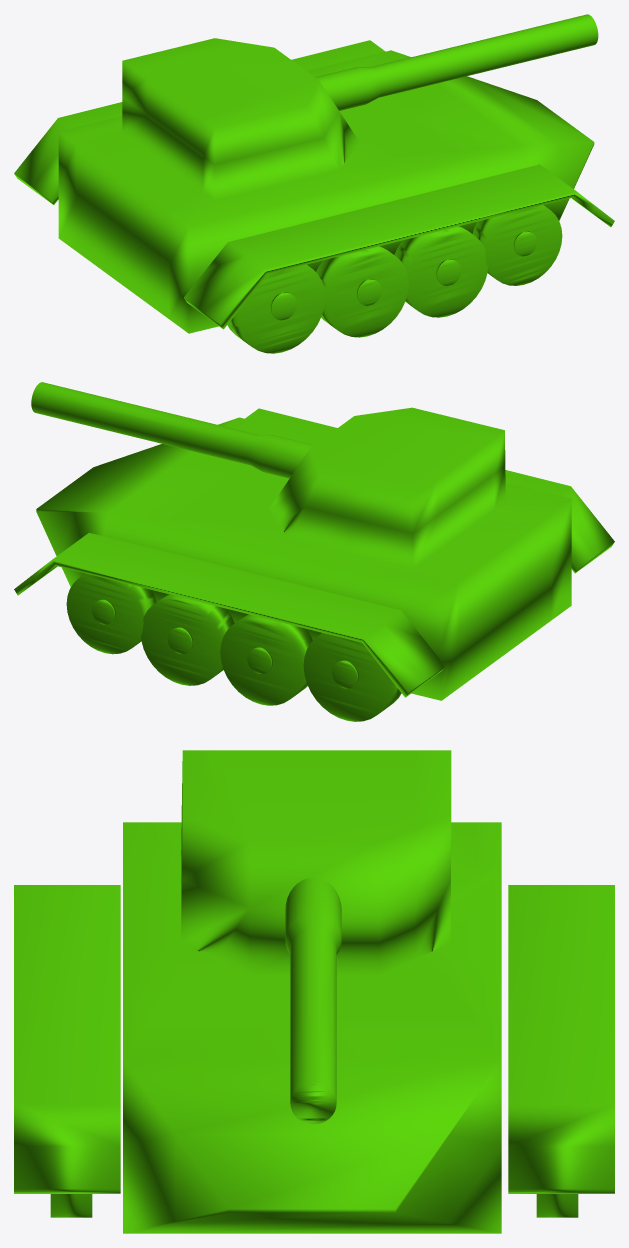
The model's file is tank(FinishedWithoAnim).fbx.
3 views of the same model, one above another, from view 1: azimuth 30°, elevation 25°; view 2: azimuth 150°, elevation 25°; view 3: azimuth 270°, elevation 25° (orthographic). The views are drawn at different scales.
Parts seen in each view (by area): view 1: Cube_004; view 2: Cube_004; view 3: Cube_004.
Part boxes in pixels (box(x1,y1,x2,y2)): Cube_004: box(14, 14, 614, 353); Cube_004: box(14, 382, 614, 721); Cube_004: box(14, 750, 614, 1233).
Size of the model in its own units: 11.22 by 4.57 by 8.48.
